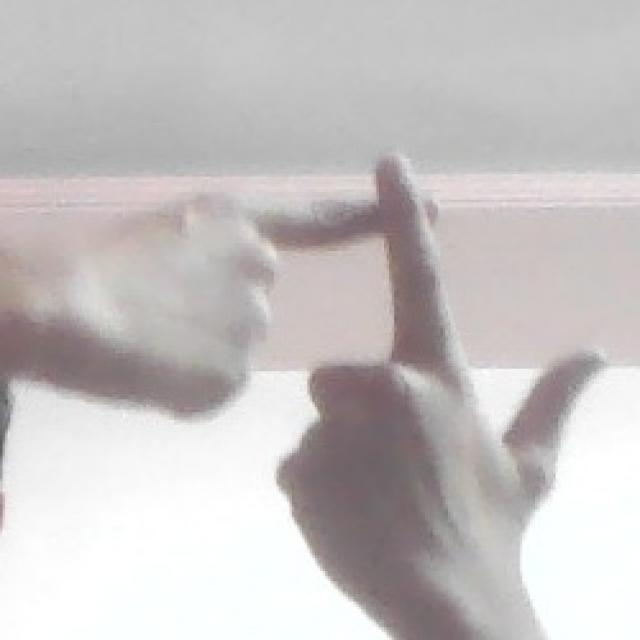Alphabet-J: (34, 160, 616, 578)
